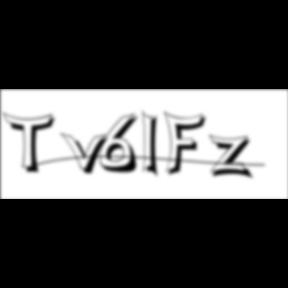6: (100, 112, 144, 176)
F: (164, 110, 212, 178)
T: (3, 112, 61, 176)
l: (142, 108, 166, 182)
v: (61, 131, 115, 177)
z: (208, 134, 258, 182)
